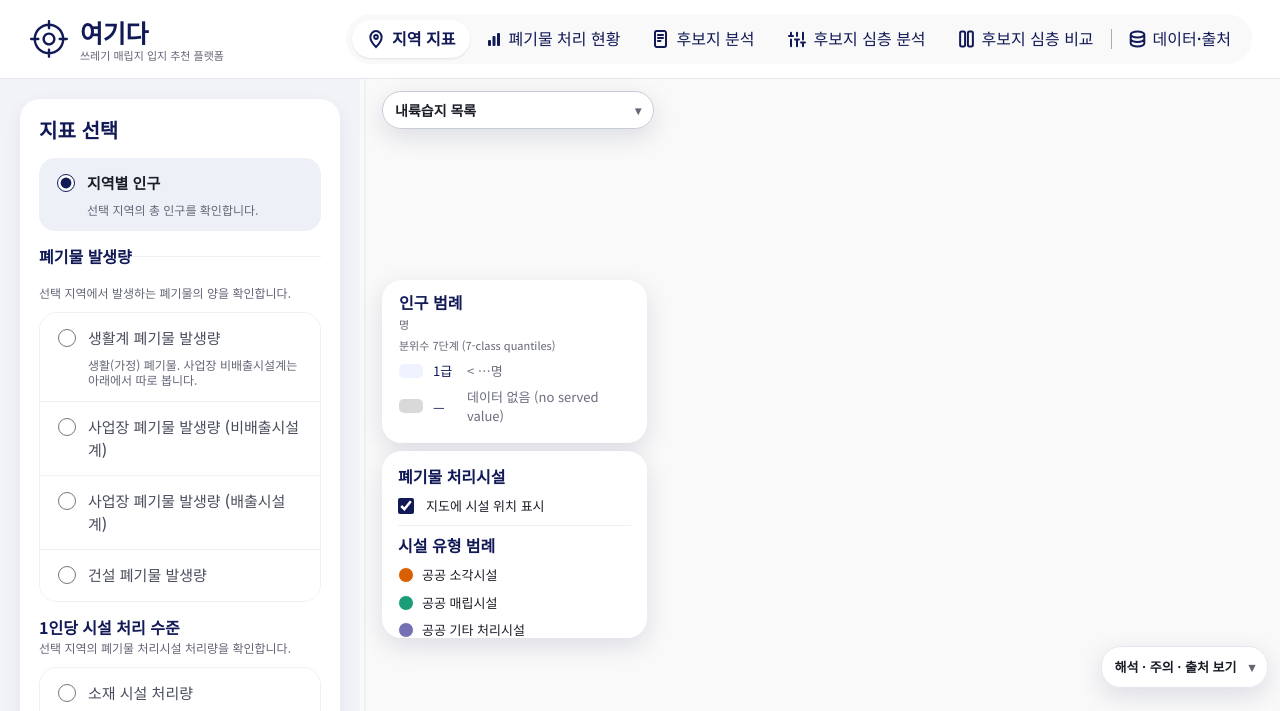
it: ② 계산 모델 가중치 설정 — nothing left the product › puts the demoted methodology behind ONE disclosure, not a second card
This screenshot has width=1280, height=711.
Click the button with test id "mode-suitability" at point(856, 39), box [772,20,941,58]
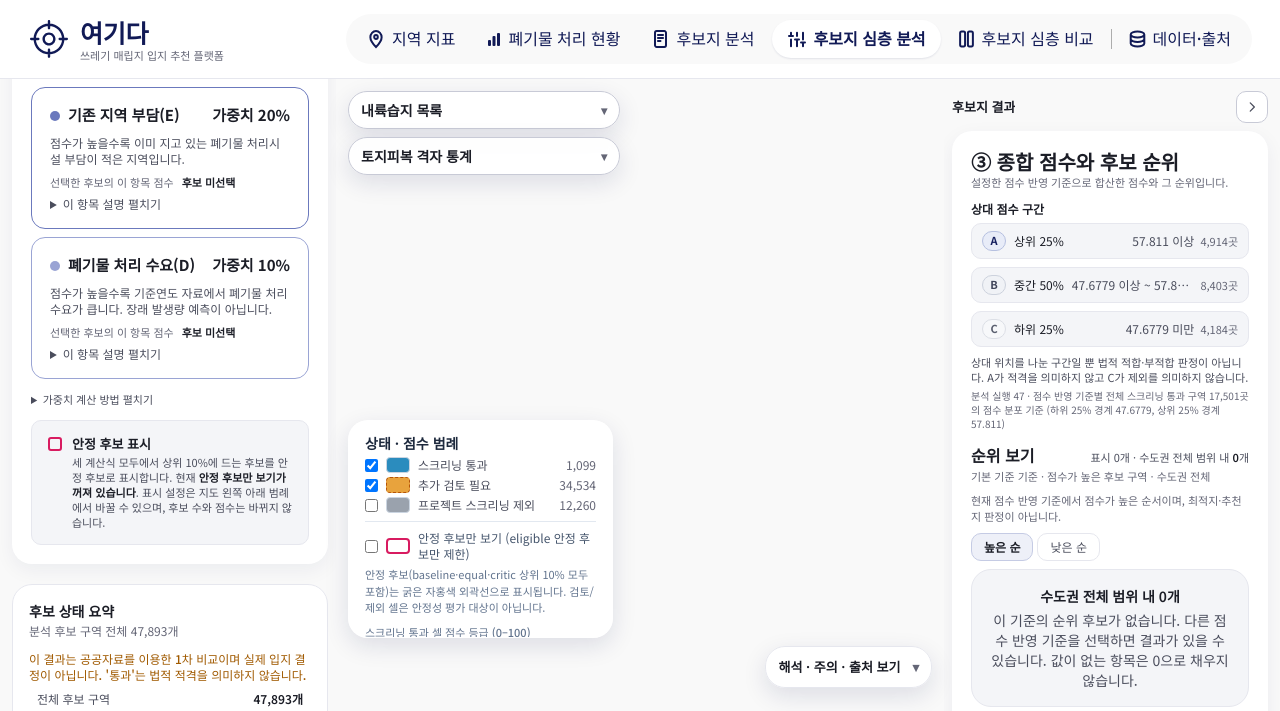
Expected: the number of elements with test id "scoring-basis-method" is 1, [43,391,153,407]
